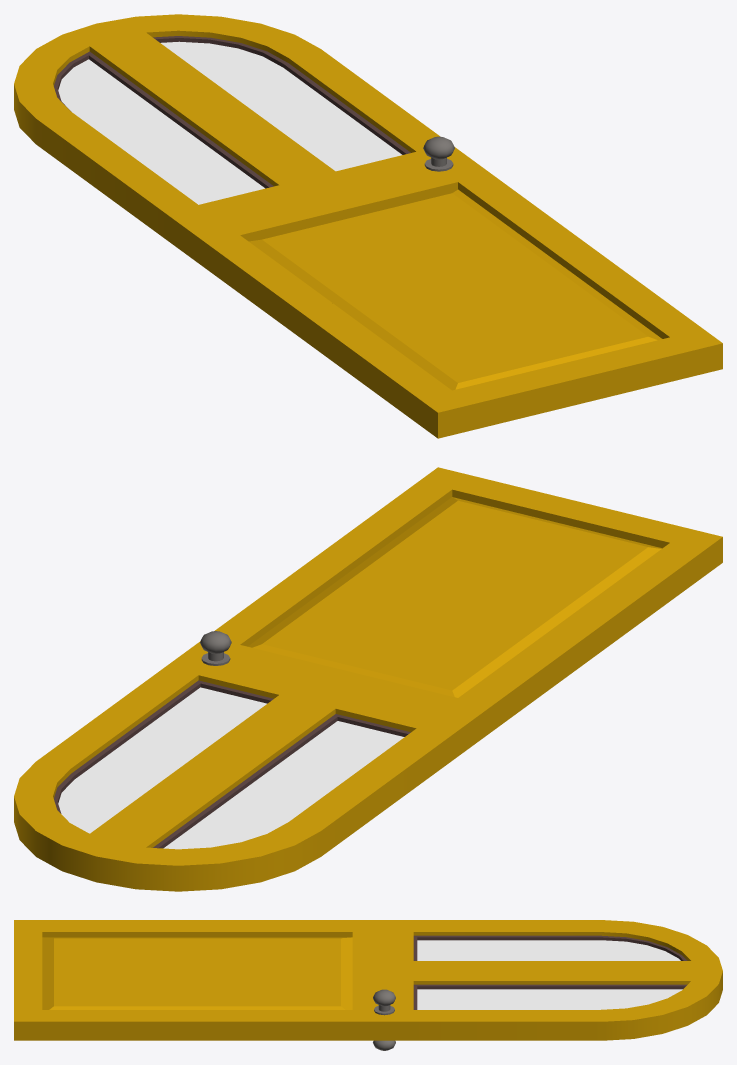
The model's file is PassengerWagon_01_Door.fbx.
3 renders of one model, top to bottom at view 1: azimuth 30°, elevation 25°; view 2: azimuth 150°, elevation 25°; view 3: azimuth 270°, elevation 25°, orthographic. The views are drawn at different scales.
Visible parts, largest first — view 1: PassengerWagon_01_Door; view 2: PassengerWagon_01_Door; view 3: PassengerWagon_01_Door.
Part boxes in pixels (left/top/right/bottom): PassengerWagon_01_Door: left=14, top=14, right=722, bottom=438; PassengerWagon_01_Door: left=14, top=467, right=722, bottom=891; PassengerWagon_01_Door: left=14, top=920, right=722, bottom=1050.
Bounding box in the file's own units: 0.8063 × 0.2156 × 2.37.
